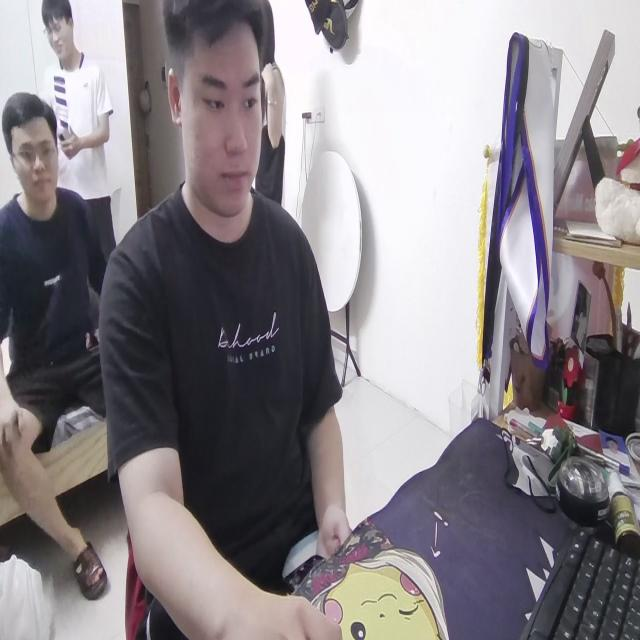extra_person: (0, 93, 110, 610), (37, 2, 113, 268), (254, 6, 289, 200)
student: (101, 10, 349, 640)
